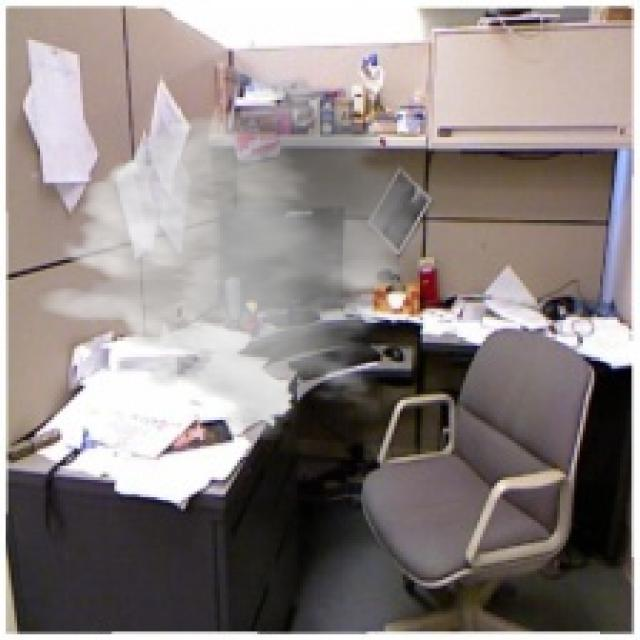smoke: (31, 74, 448, 440)
